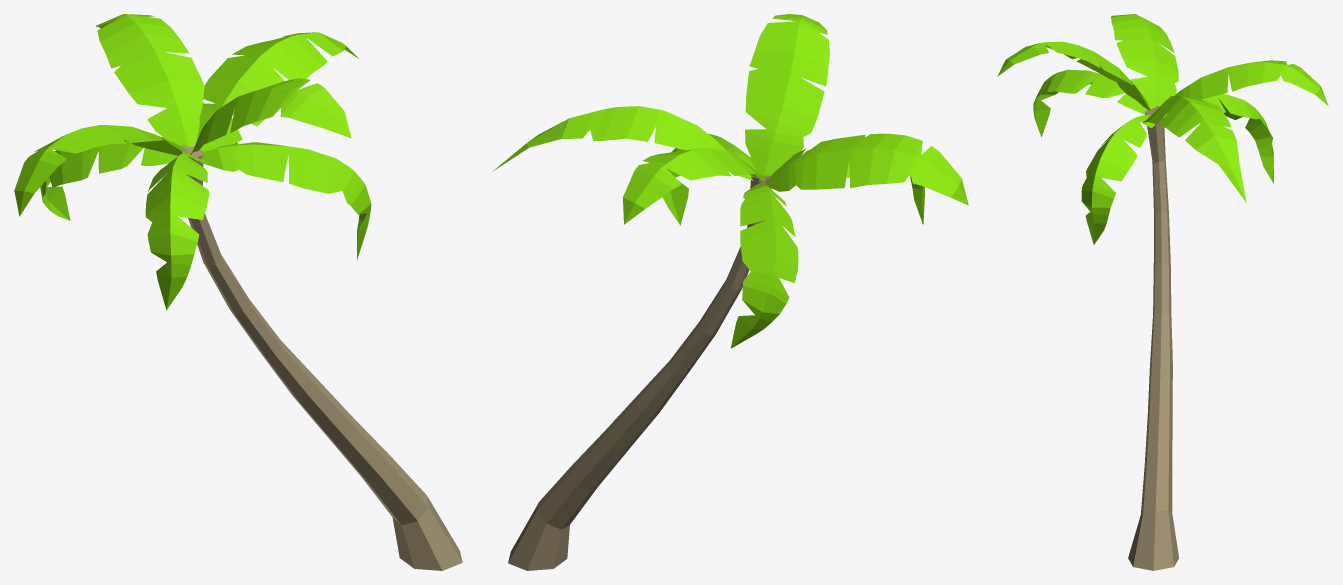
File: palm05.fbx
The picture shows the model from 3 angles, left to right: view 1: azimuth 30°, elevation 25°; view 2: azimuth 150°, elevation 25°; view 3: azimuth 270°, elevation 25°; orthographic projection. The views are drawn at different scales.
Parts seen in each view (by area): view 1: palm.005; view 2: palm.005; view 3: palm.005.
Boxes of the visible parts, x1,y1,x2,y2 form: palm.005: (14,14,462,570); palm.005: (492,14,968,570); palm.005: (997,14,1328,570).
Bounding box in the file's own units: 271 × 318 × 218.
